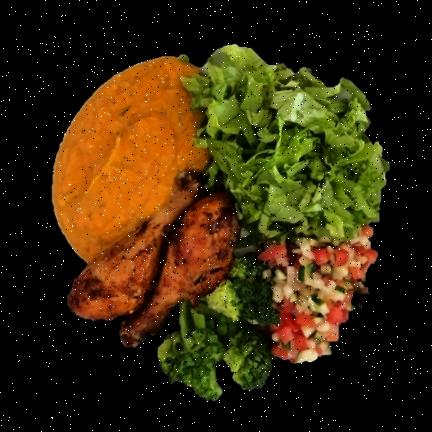broccoli: (158, 256, 279, 400)
chicken: (67, 173, 239, 347)
salad: (183, 45, 388, 246)
